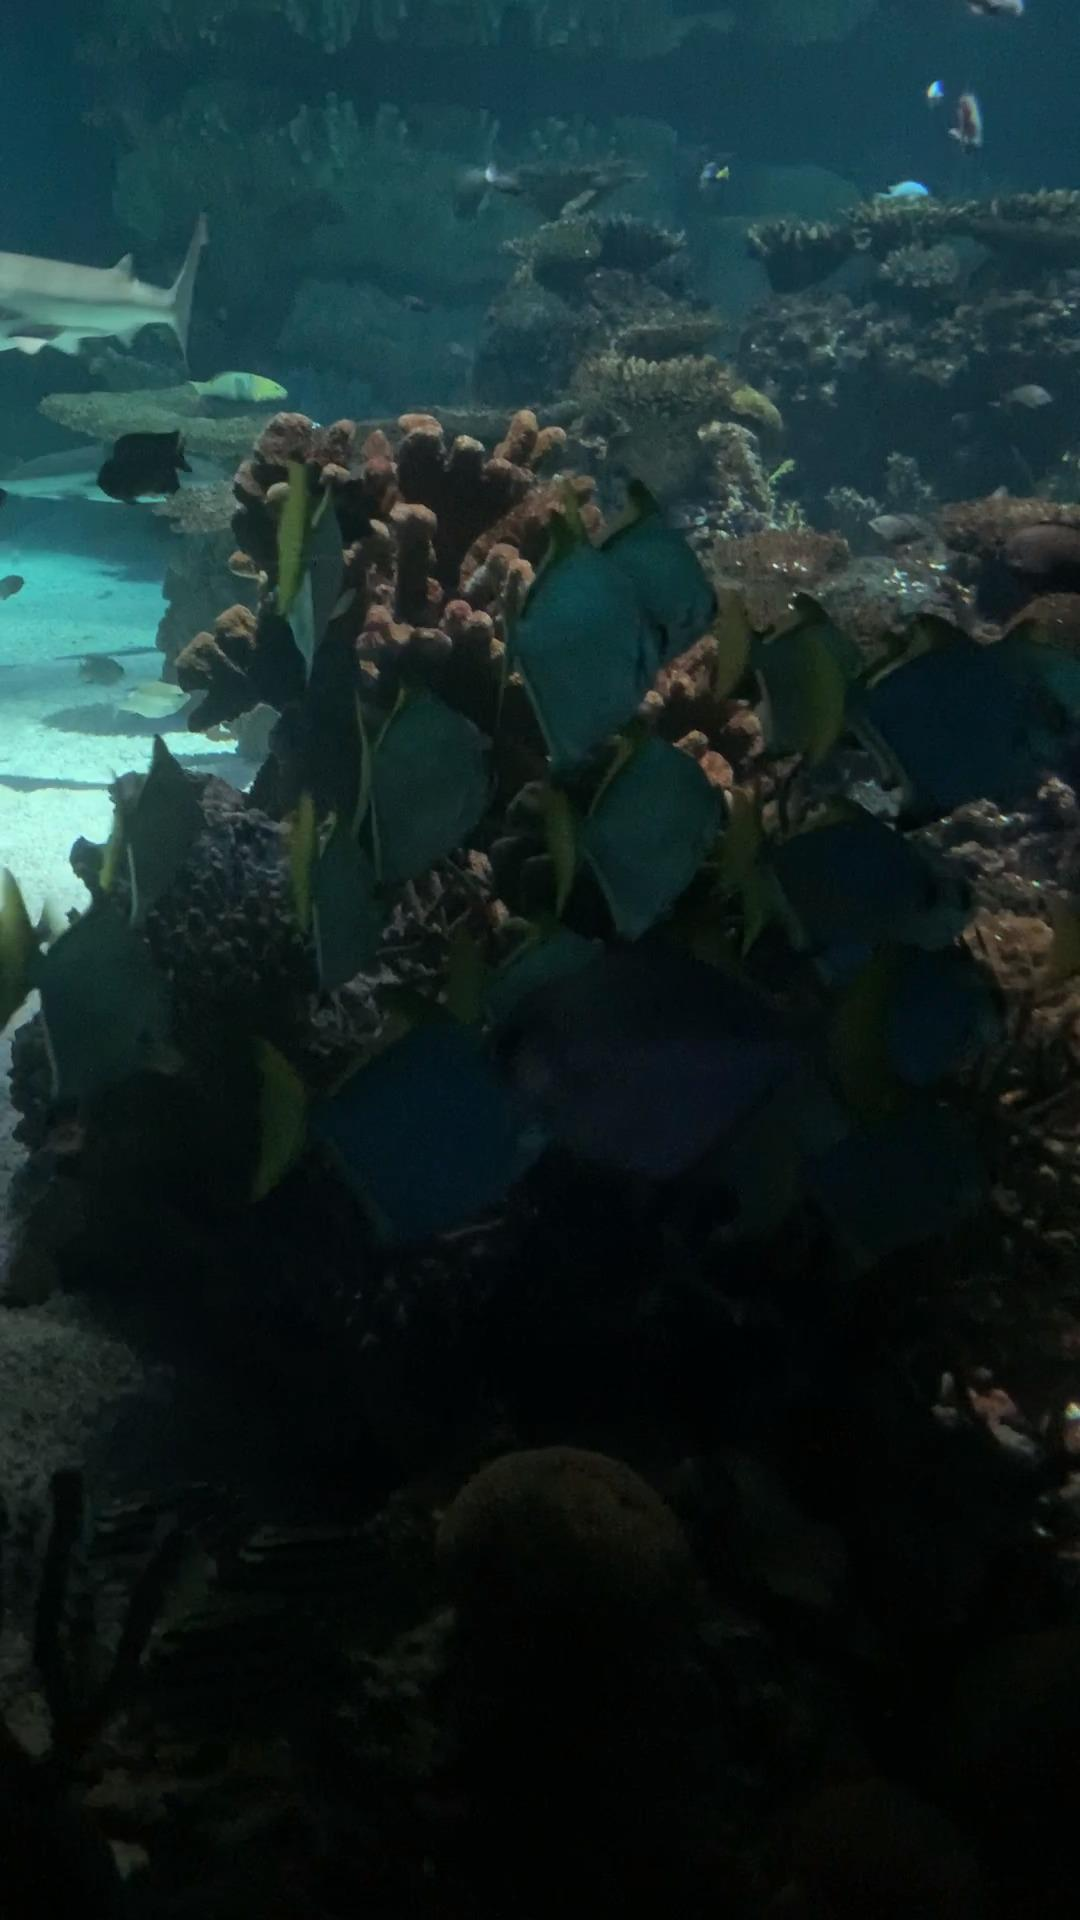fish: (235, 994, 566, 1280), (484, 934, 793, 1199), (518, 702, 721, 943), (807, 1077, 1004, 1304), (3, 877, 200, 1098), (752, 802, 990, 985), (491, 510, 661, 761), (829, 612, 1011, 808), (818, 928, 1029, 1097), (69, 733, 240, 926), (324, 659, 491, 857), (266, 785, 398, 997), (735, 574, 877, 767), (582, 506, 728, 675), (949, 596, 1080, 771), (261, 504, 369, 673), (435, 153, 529, 228), (916, 98, 1015, 162), (687, 152, 737, 196)
shark: (0, 218, 207, 357)
